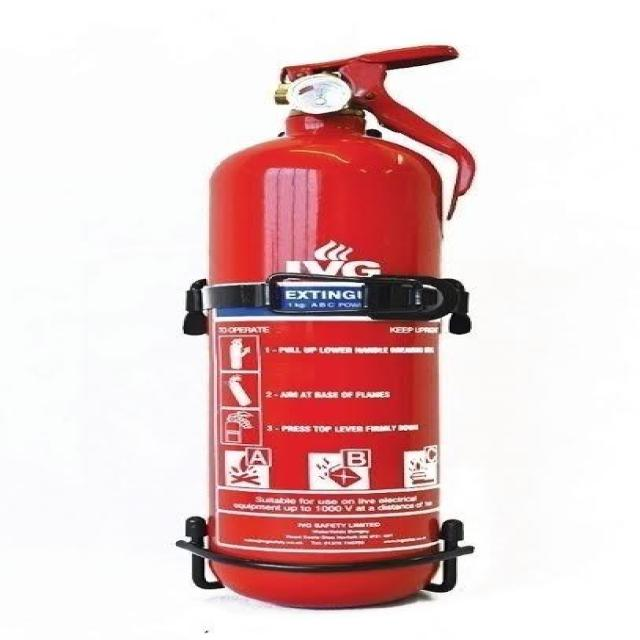fire_extinguisher: (190, 38, 483, 614)
